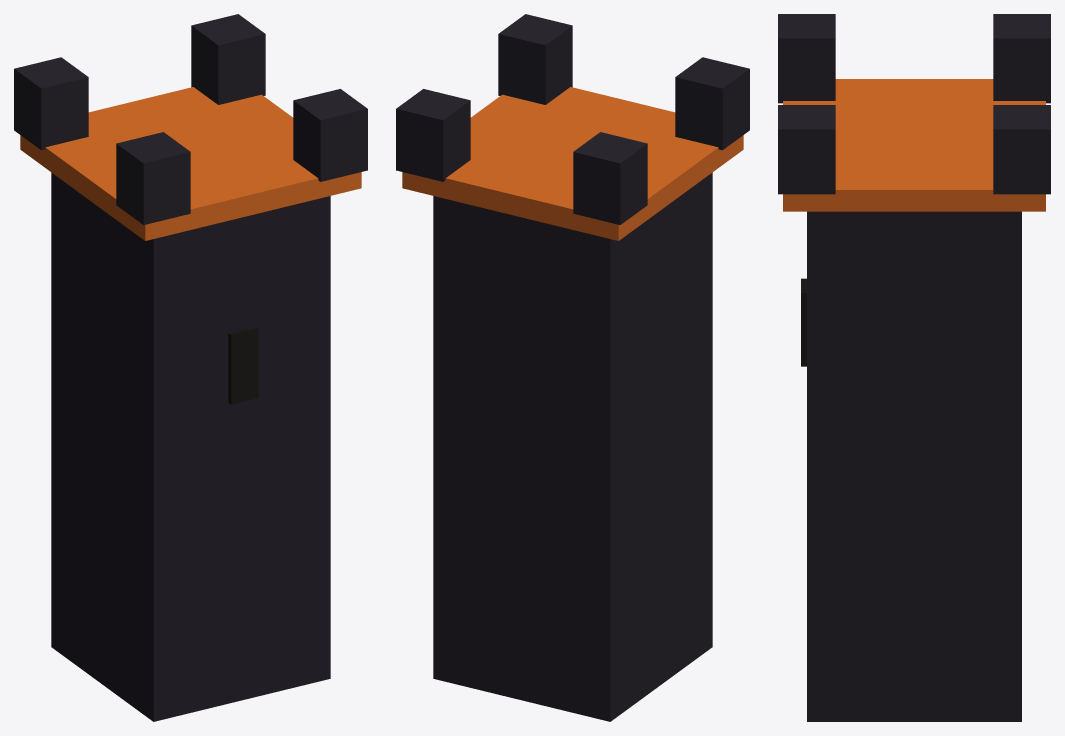
Rendered from demon_tower_broken.glb.
3 views of the same model, side by side, from view 1: azimuth 30°, elevation 25°; view 2: azimuth 150°, elevation 25°; view 3: azimuth 270°, elevation 25° (orthographic). The views are drawn at different scales.
Parts seen in each view (by area): view 1: demon_tower_piece5, demon_tower_piece1, demon_tower_piece6, demon_tower_piece3, demon_tower_piece8, demon_tower_piece4, demon_tower_piece7, demon_tower_piece2, demon_tower_piece0; view 2: demon_tower_piece1, demon_tower_piece3, demon_tower_piece8, demon_tower_piece5, demon_tower_piece4, demon_tower_piece9, demon_tower_piece0, demon_tower_piece7, demon_tower_piece2; view 3: demon_tower_piece5, demon_tower_piece3, demon_tower_piece1, demon_tower_piece6, demon_tower_piece7, demon_tower_piece4.
Boxes of the visible parts, <box> form: demon_tower_piece5: <box>129,362,330,721</box>; demon_tower_piece1: <box>14,14,235,488</box>; demon_tower_piece6: <box>152,136,367,566</box>; demon_tower_piece3: <box>193,14,367,303</box>; demon_tower_piece8: <box>51,405,176,703</box>; demon_tower_piece4: <box>83,150,196,531</box>; demon_tower_piece7: <box>88,144,211,507</box>; demon_tower_piece2: <box>55,182,211,583</box>; demon_tower_piece0: <box>51,179,212,590</box>; demon_tower_piece1: <box>398,65,739,563</box>; demon_tower_piece3: <box>396,14,675,492</box>; demon_tower_piece8: <box>520,330,712,721</box>; demon_tower_piece5: <box>433,443,712,700</box>; demon_tower_piece4: <box>642,59,749,559</box>; demon_tower_piece9: <box>494,523,578,690</box>; demon_tower_piece0: <box>558,123,639,680</box>; demon_tower_piece7: <box>643,57,714,528</box>; demon_tower_piece2: <box>614,121,647,652</box>; demon_tower_piece5: <box>807,319,1021,721</box>; demon_tower_piece3: <box>778,105,1050,472</box>; demon_tower_piece1: <box>798,14,1050,169</box>; demon_tower_piece6: <box>778,158,901,387</box>; demon_tower_piece7: <box>778,26,833,104</box>; demon_tower_piece4: <box>778,14,799,103</box>.
Bounding box in the file's own units: 1.14 × 2.79 × 1.14.
